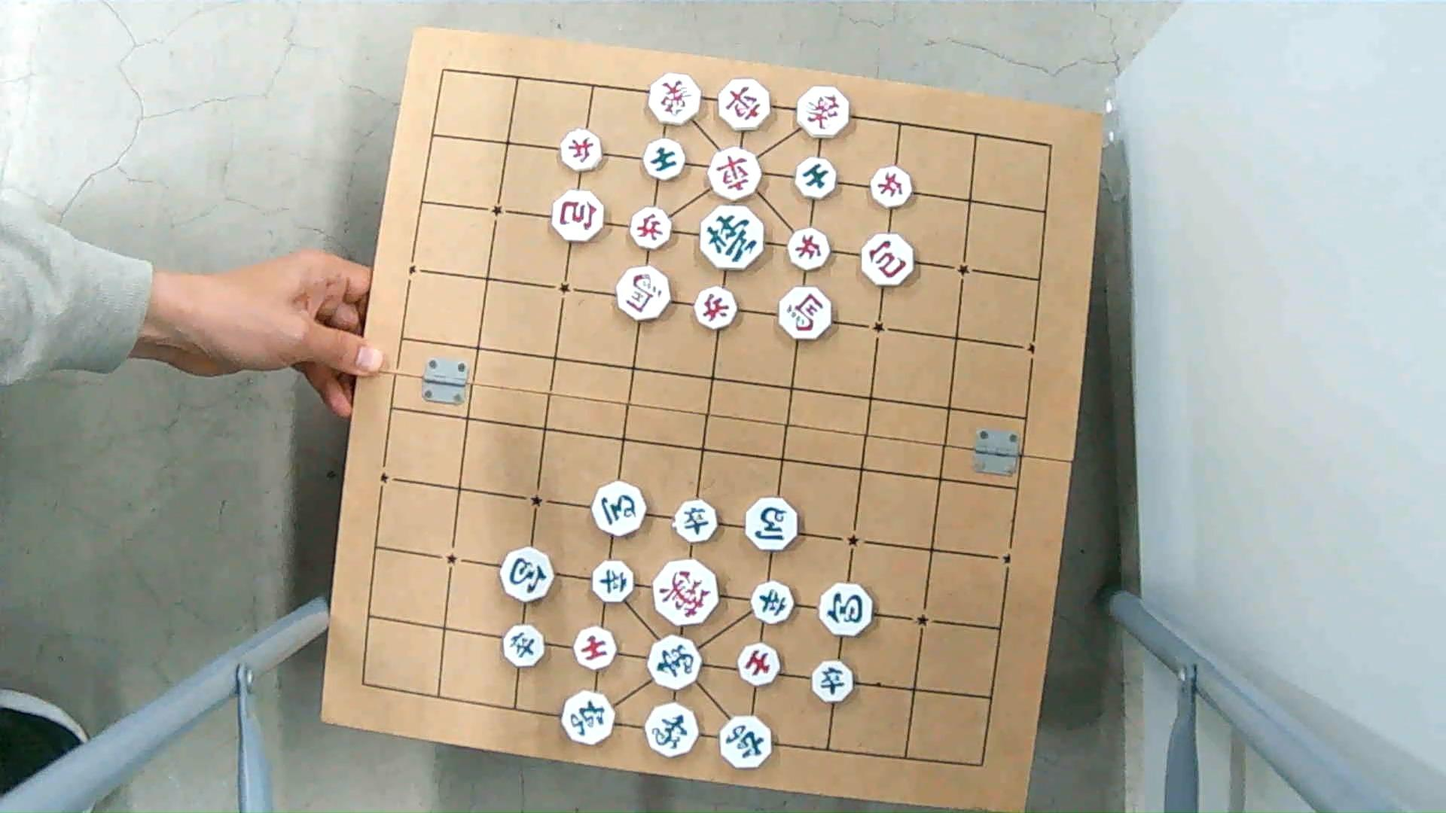cha_green: (717, 717, 772, 768), (563, 695, 617, 745)
cha_red: (707, 151, 762, 200), (717, 81, 773, 129)
jol_green: (749, 580, 801, 624), (590, 560, 638, 603), (673, 504, 721, 544), (504, 627, 550, 668), (809, 662, 853, 701)
jol_red: (691, 286, 740, 329), (788, 227, 833, 268), (628, 209, 672, 249), (560, 131, 604, 170), (870, 169, 914, 207)
ma_green: (590, 484, 648, 534), (746, 501, 802, 552)
ma_red: (616, 266, 670, 321), (781, 290, 834, 340)
po_green: (819, 583, 877, 637), (501, 548, 557, 600)
po_red: (551, 194, 605, 243), (862, 238, 917, 286)
sa_green: (793, 160, 837, 199), (642, 140, 685, 178)
sa_red: (737, 644, 783, 686), (573, 626, 618, 666)
sang_green: (642, 705, 698, 757), (649, 639, 704, 690)
sang_red: (796, 86, 852, 139), (648, 76, 703, 124)
wang_green: (700, 204, 766, 269)
wang_red: (653, 562, 718, 626)
